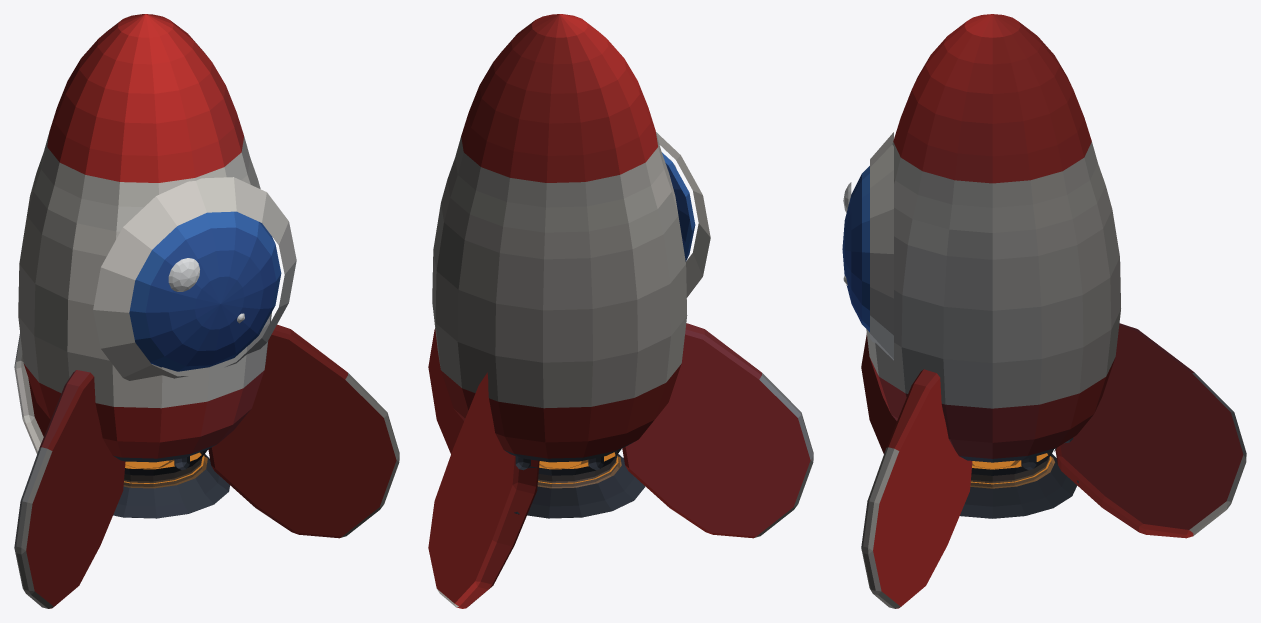
The model's file is HeroRocket_source.fbx.
3 views of the same model, side by side, from view 1: azimuth 30°, elevation 25°; view 2: azimuth 150°, elevation 25°; view 3: azimuth 270°, elevation 25° (orthographic).
Visible parts, largest first — view 1: HeroRocket; view 2: HeroRocket; view 3: HeroRocket.
Part boxes in pixels (left/top/right/bottom): HeroRocket: left=14, top=14, right=399, bottom=608; HeroRocket: left=428, top=14, right=813, bottom=608; HeroRocket: left=842, top=14, right=1246, bottom=608.
Size of the model in its own units: 2.01 by 2.62 by 1.84.
